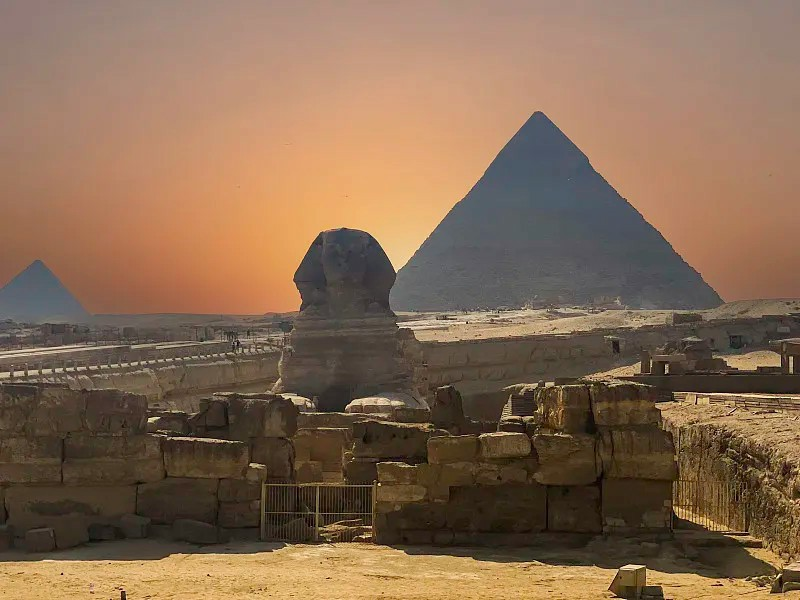Pyramid: (389, 111, 728, 311), (1, 259, 93, 320)
